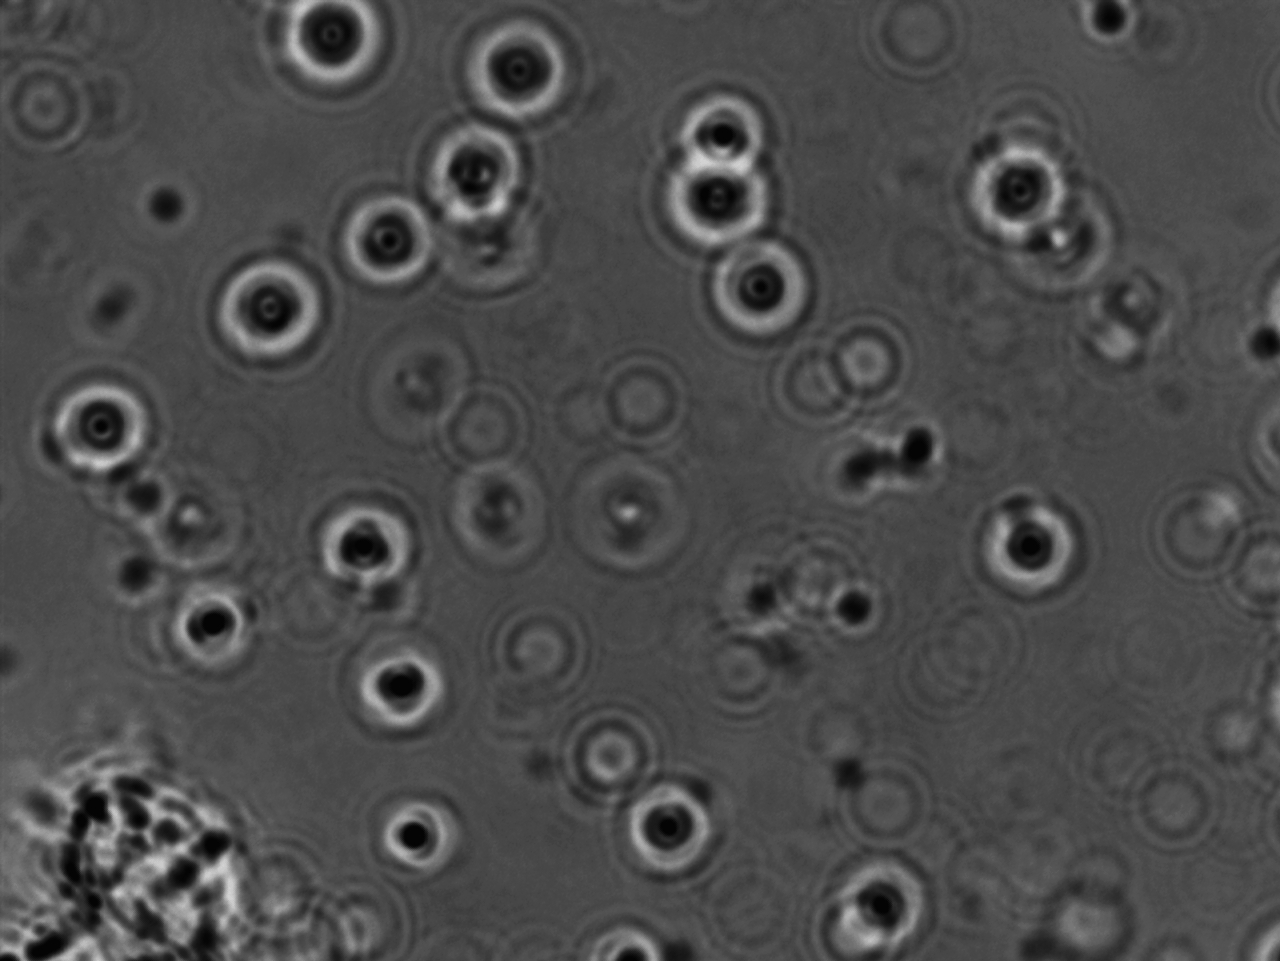depth:-16: (196, 235, 350, 391), (599, 765, 736, 902), (955, 480, 1088, 620), (322, 183, 448, 325), (401, 110, 538, 239), (689, 223, 825, 352), (286, 480, 421, 608), (636, 136, 782, 252), (37, 366, 168, 492), (951, 136, 1080, 261), (342, 635, 468, 756), (352, 782, 478, 899), (665, 85, 777, 189)
